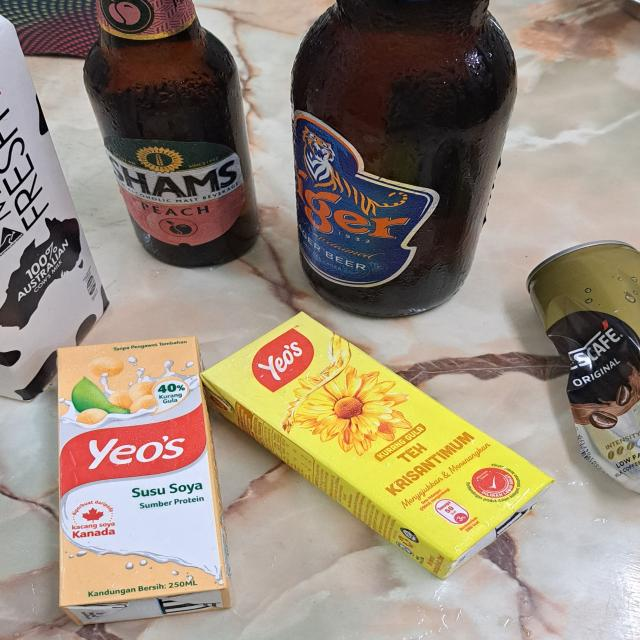can: (523, 241, 640, 495)
drink carton: (204, 314, 552, 578), (56, 337, 233, 622), (0, 0, 108, 403)
glass bottle: (292, 0, 520, 321), (80, 0, 264, 269)
